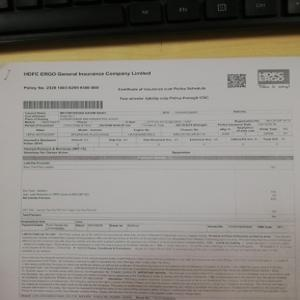image: (257, 69, 291, 84)
table: (22, 155, 296, 223), (22, 110, 295, 156)
text: (22, 253, 291, 296), (20, 228, 295, 257), (119, 84, 209, 102), (21, 69, 152, 78)
